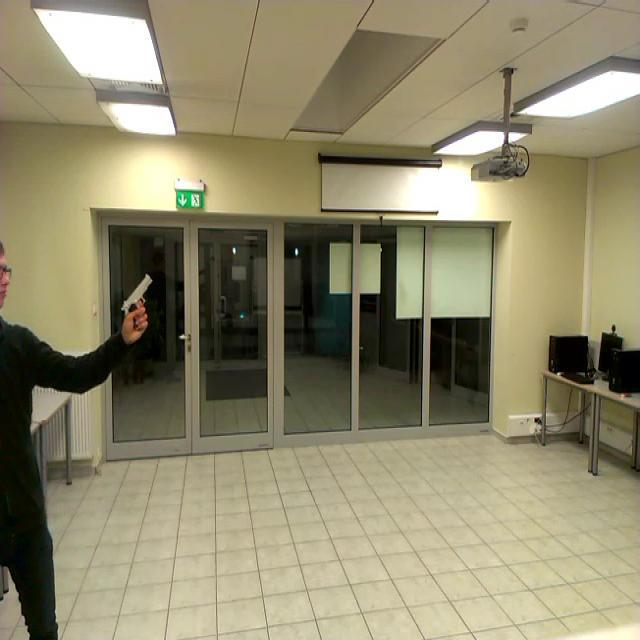Gun: (122, 272, 154, 330)
